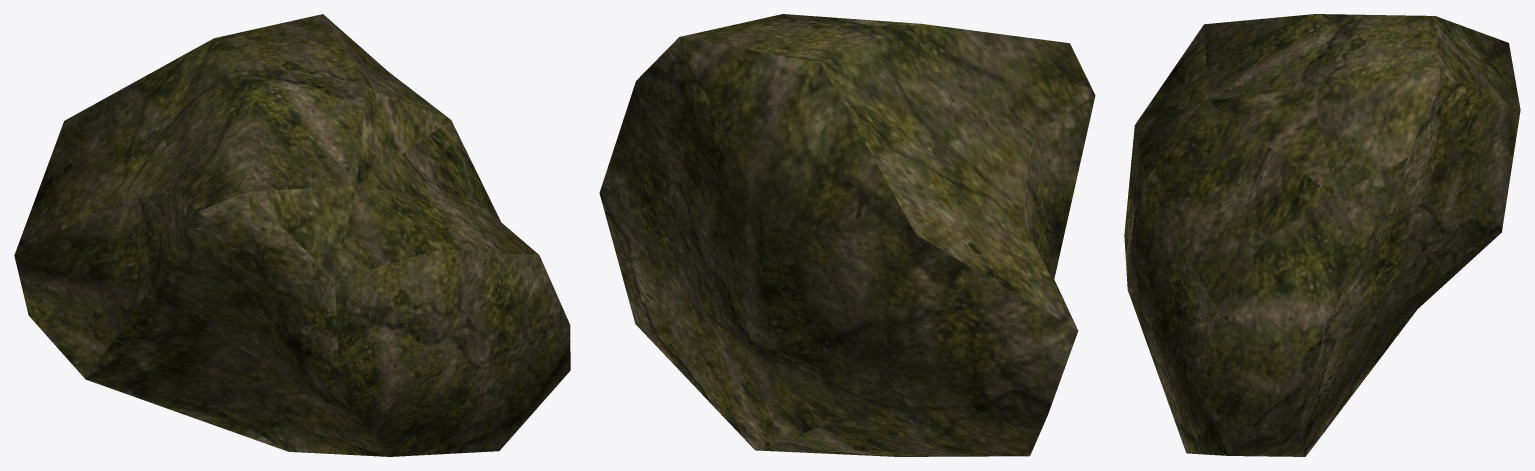
The model's file is rock1.gltf.
3 renders of one model, left to right at view 1: azimuth 30°, elevation 25°; view 2: azimuth 150°, elevation 25°; view 3: azimuth 270°, elevation 25°, orthographic. The views are drawn at different scales.
Visible parts, largest first — view 1: rock; view 2: rock; view 3: rock.
Part boxes in pixels (box(x1,y1,x2,y2)): rock: box(14, 14, 570, 456); rock: box(599, 14, 1095, 456); rock: box(1124, 14, 1520, 456).
Bounding box in the file's own units: 8.61 × 6.96 × 6.51.
1 material, 1 textured.
